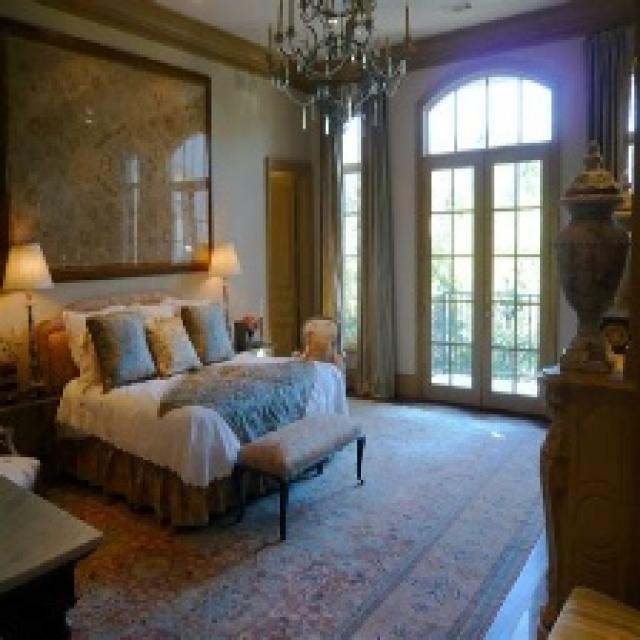Bed: (32, 292, 348, 528)
